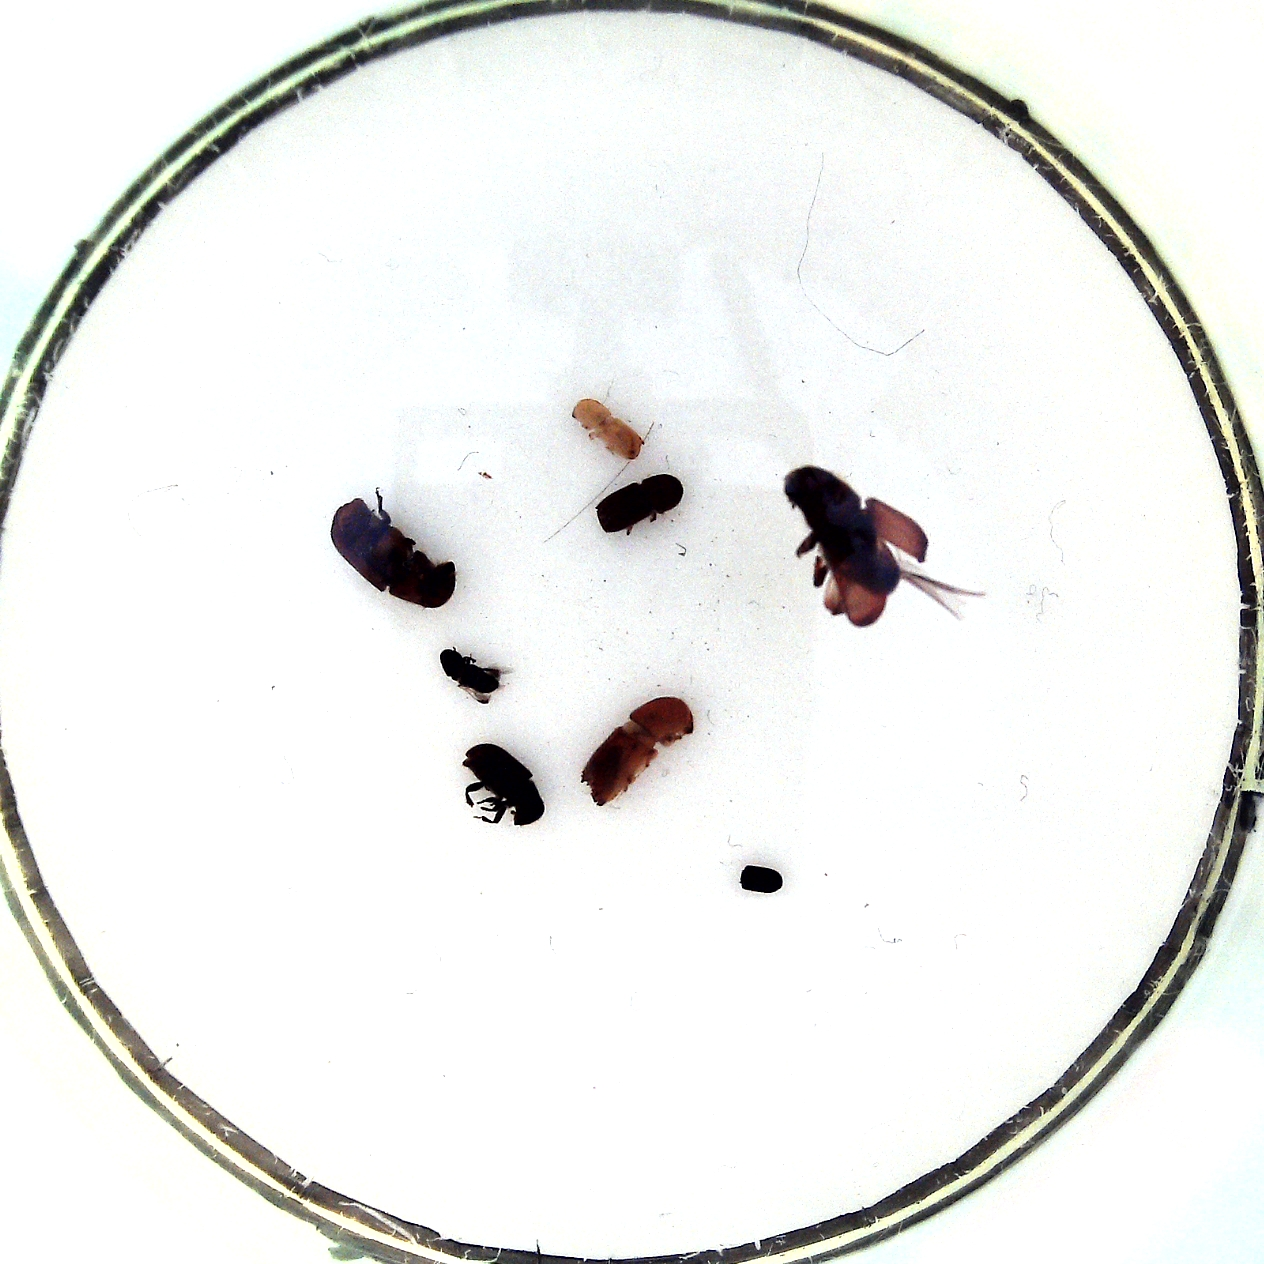Boerner: (575, 689, 701, 811)
Leconte: (776, 458, 989, 634), (322, 484, 463, 612)
Linnaeus: (593, 468, 691, 537)
acuminatus: (566, 394, 655, 466)
armandi: (458, 737, 550, 829)
coleoptera: (435, 640, 514, 707), (734, 857, 788, 899)
